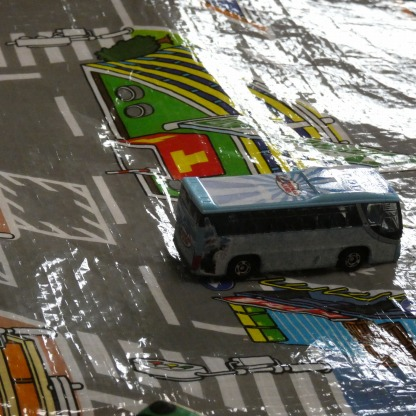car: (173, 167, 404, 274)
